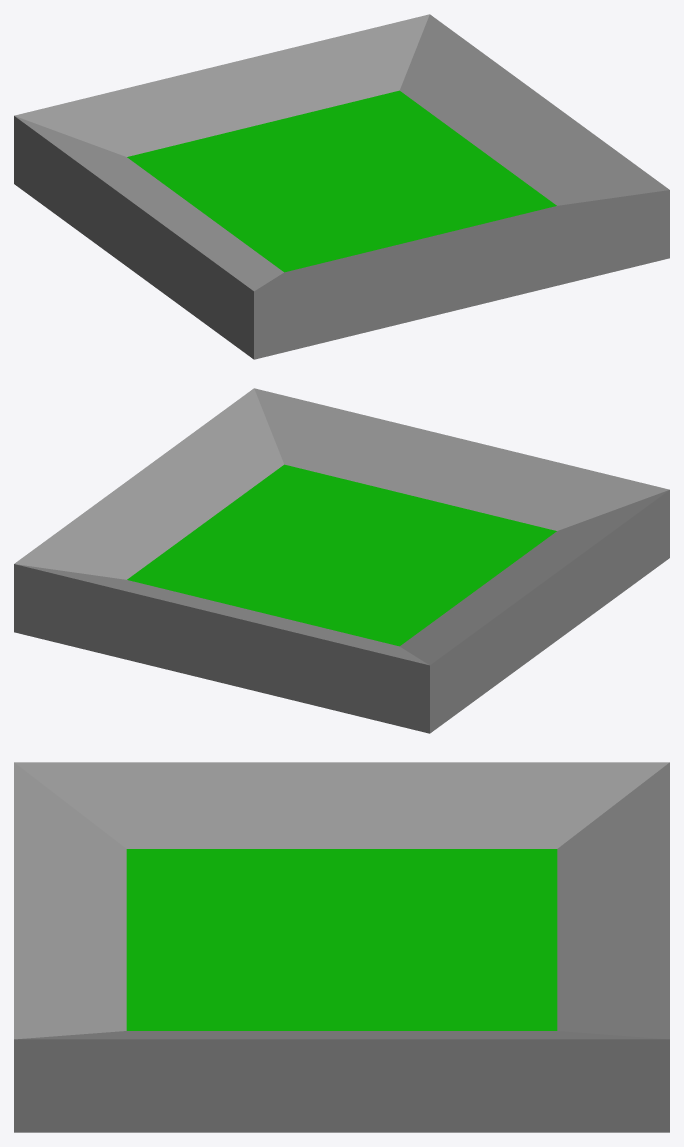
The model's file is JumpPlatform.fbx.
The picture shows the model from 3 angles, top to bottom: view 1: azimuth 30°, elevation 25°; view 2: azimuth 150°, elevation 25°; view 3: azimuth 270°, elevation 25°; orthographic projection. The views are drawn at different scales.
Visible parts, largest first — view 1: JumpPlatform; view 2: JumpPlatform; view 3: JumpPlatform.
Boxes of the visible parts, box(x1,y1,x2,y2) form: JumpPlatform: box(14, 14, 669, 359); JumpPlatform: box(14, 388, 669, 733); JumpPlatform: box(14, 762, 669, 1132).
Bounding box in the file's own units: 339 × 53.19 × 339.
